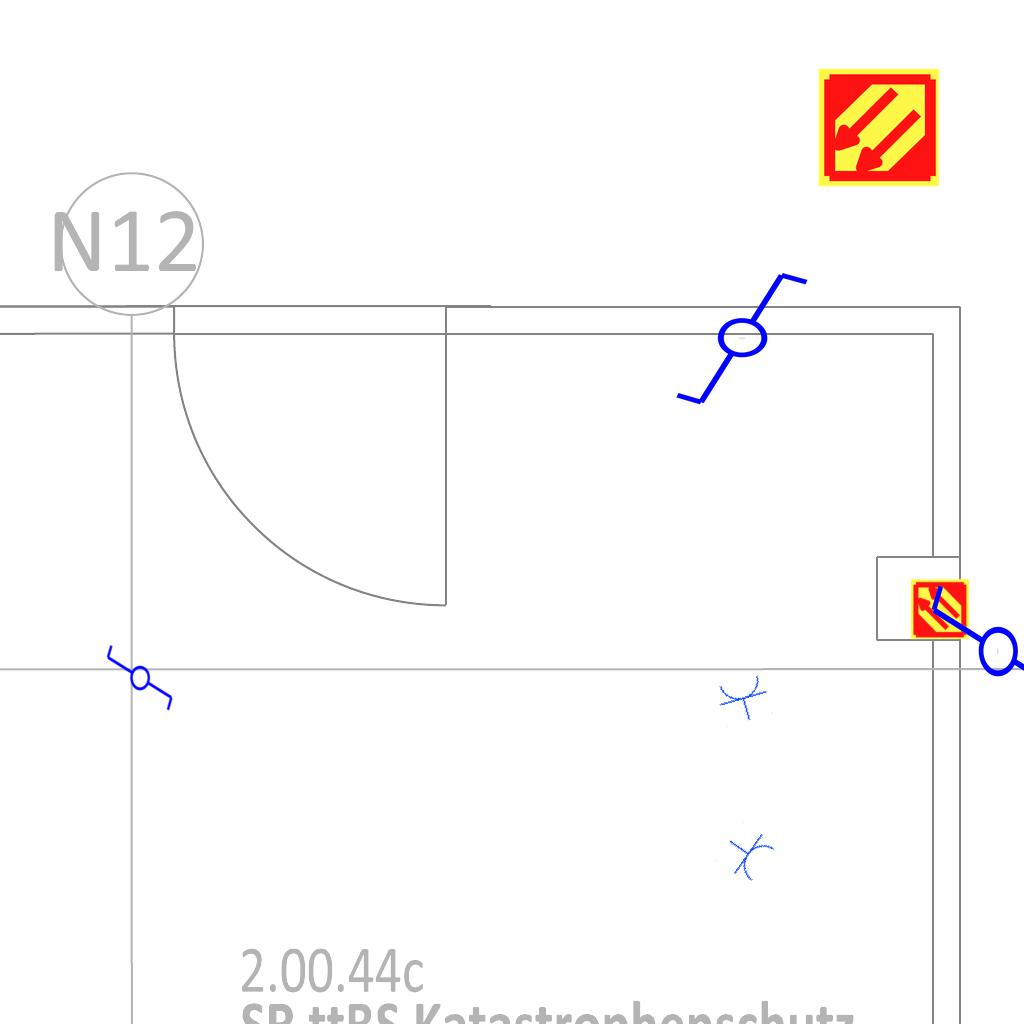ASR_Ansaugrauchmelder: (816, 65, 941, 190), (909, 578, 971, 640)
Schukosteckdose_einfach: (715, 820, 779, 887), (714, 671, 774, 728)
Wechselschalter: (672, 268, 829, 412), (924, 581, 1024, 738), (103, 643, 175, 721)
